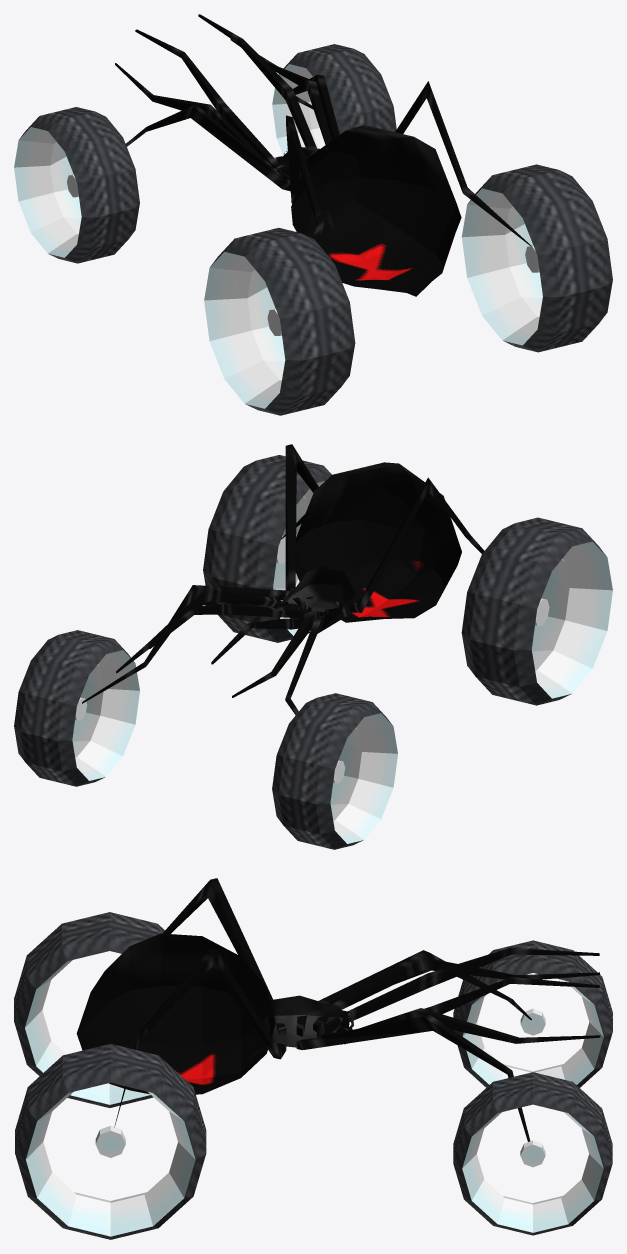
Rendered from blackwidowshow.glb.
3 renders of one model, top to bottom at view 1: azimuth 30°, elevation 25°; view 2: azimuth 150°, elevation 25°; view 3: azimuth 270°, elevation 25°, orthographic. The views are drawn at different scales.
Parts seen in each view (by area): view 1: wheellr128, wheelrr128, body4, wheellf128, legs4, wheelrf128; view 2: wheellr128, body4, wheellf128, wheelrf128, wheelrr128, legs4, head4; view 3: body4, wheelrr128, legs4, wheelrf128, wheellr128, wheellf128, head4.
Part boxes in pixels (x1,y1,x2,y2): wheellr128: (204, 228, 355, 415); wheelrr128: (461, 164, 612, 352); body4: (291, 125, 461, 296); wheellf128: (14, 107, 139, 263); legs4: (115, 14, 531, 246); wheelrf128: (272, 44, 396, 155); wheellr128: (461, 517, 612, 705); body4: (296, 462, 461, 622); wheellf128: (272, 693, 397, 849); wheelrf128: (14, 630, 139, 786); wheelrr128: (203, 455, 331, 642); legs4: (82, 444, 484, 715); head4: (281, 566, 356, 618); body4: (76, 933, 275, 1094); wheelrr128: (15, 1043, 206, 1239); legs4: (114, 878, 600, 1141); wheelrf128: (453, 1072, 612, 1235); wheellr128: (14, 912, 164, 1107); wheellf128: (453, 940, 612, 1087); head4: (251, 995, 349, 1047).
Size of the model in its own units: 4.9 by 3.39 by 7.4.
Materials: 2 (2 with a texture image).
